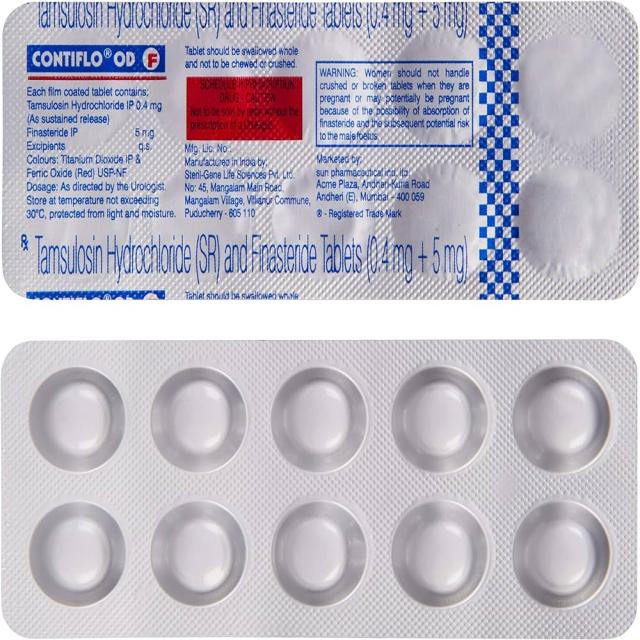Medicine-name: (32, 234, 473, 285)
